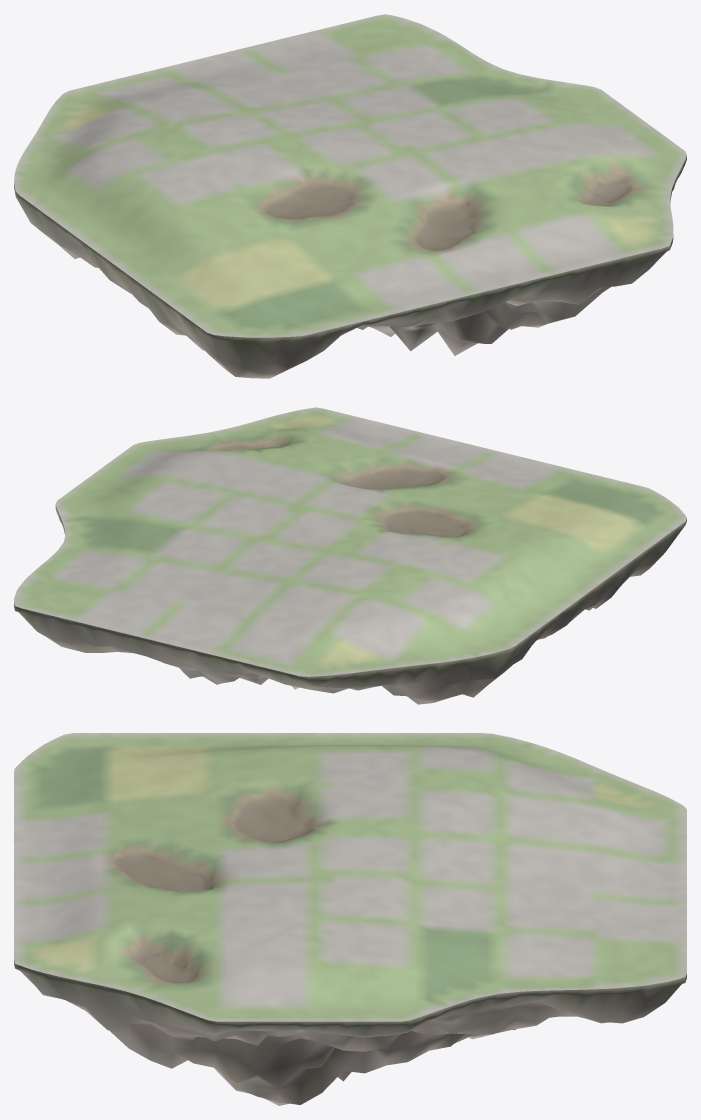
Rendered from SKY-027.rock.glb.
3 renders of one model, top to bottom at view 1: azimuth 30°, elevation 25°; view 2: azimuth 150°, elevation 25°; view 3: azimuth 270°, elevation 25°, orthographic. The views are drawn at different scales.
Visible parts, largest first — view 1: deck-col, rock; view 2: deck-col, rock; view 3: deck-col, rock.
Part boxes in pixels (x1,y1,x2,y2): deck-col: [14, 14, 686, 337]; rock: [14, 156, 686, 378]; deck-col: [14, 407, 686, 676]; rock: [14, 505, 686, 704]; deck-col: [14, 733, 686, 1021]; rock: [14, 960, 686, 1105].
Bounding box in the file's own units: 191 × 67.97 × 188.
